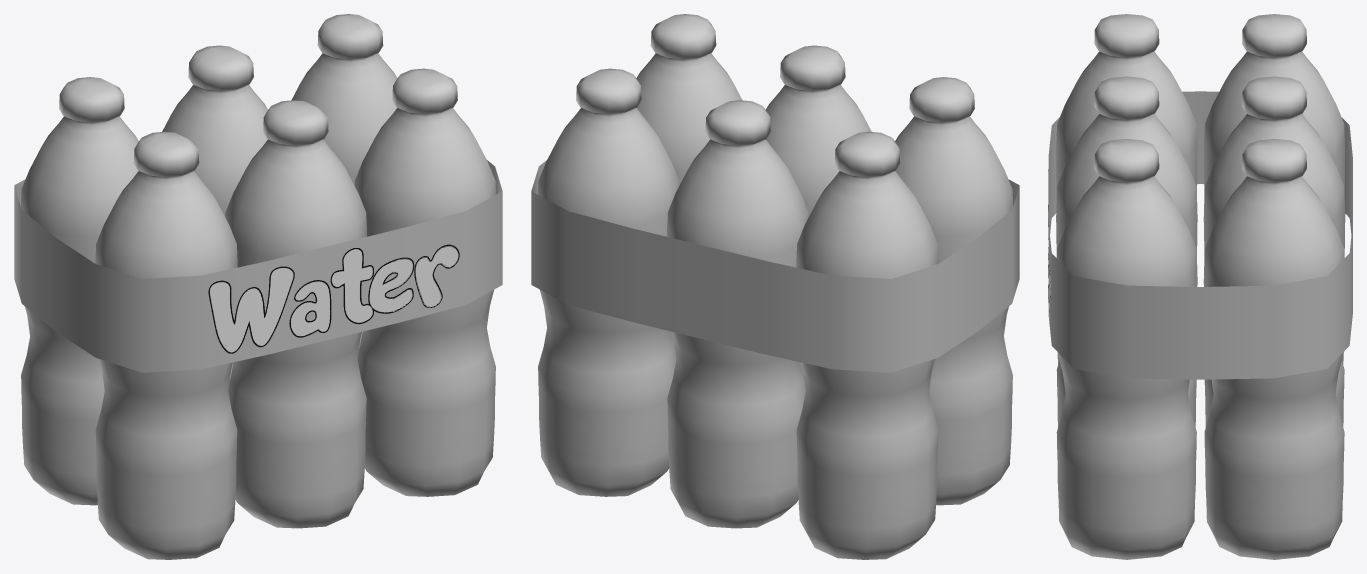
The model's file is water.fbx.
3 views of the same model, side by side, from view 1: azimuth 30°, elevation 25°; view 2: azimuth 150°, elevation 25°; view 3: azimuth 270°, elevation 25° (orthographic).
Parts seen in each view (by area): view 1: Water.001; view 2: Water.001; view 3: Water.001.
Boxes of the visible parts, bbox=[...] form: Water.001: bbox=[14, 14, 502, 559]; Water.001: bbox=[531, 14, 1019, 559]; Water.001: bbox=[1048, 14, 1352, 559].
Bounding box in the file's own units: 21.94 × 20.87 × 14.44.
